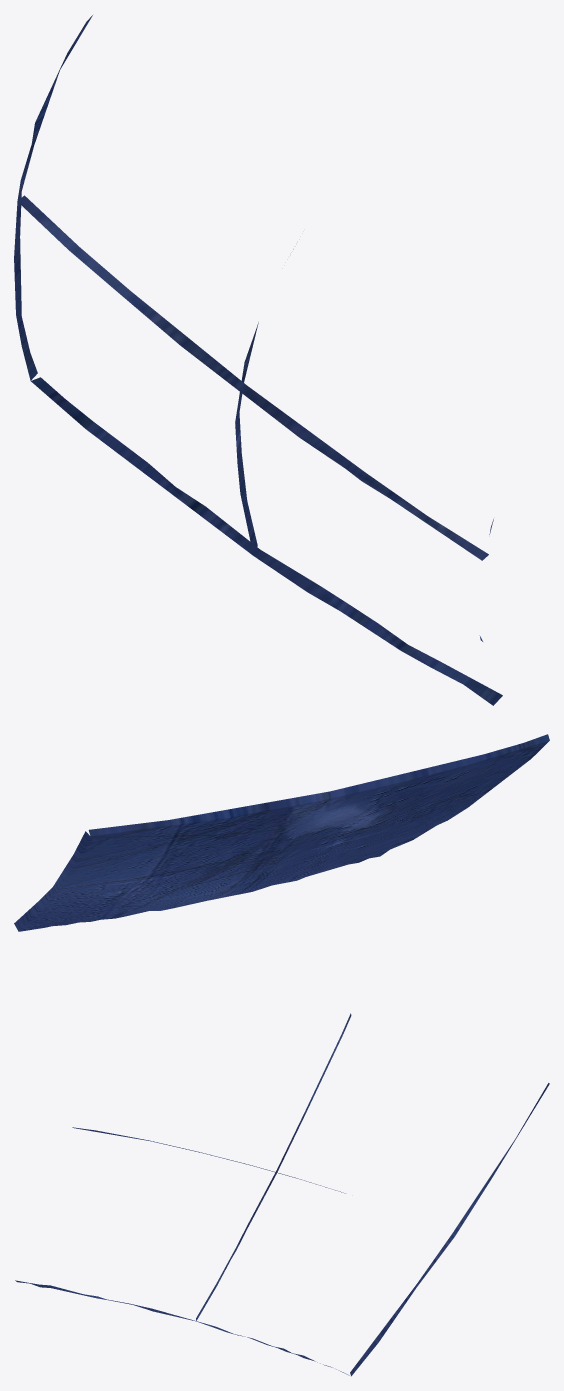
3 renders of one model, top to bottom at view 1: azimuth 30°, elevation 25°; view 2: azimuth 150°, elevation 25°; view 3: azimuth 270°, elevation 25°, orthographic. The views are drawn at different scales.
Size of the model in its own units: 1685987 by 823057 by 1854199.
Materials: 1 (1 with a texture image).
